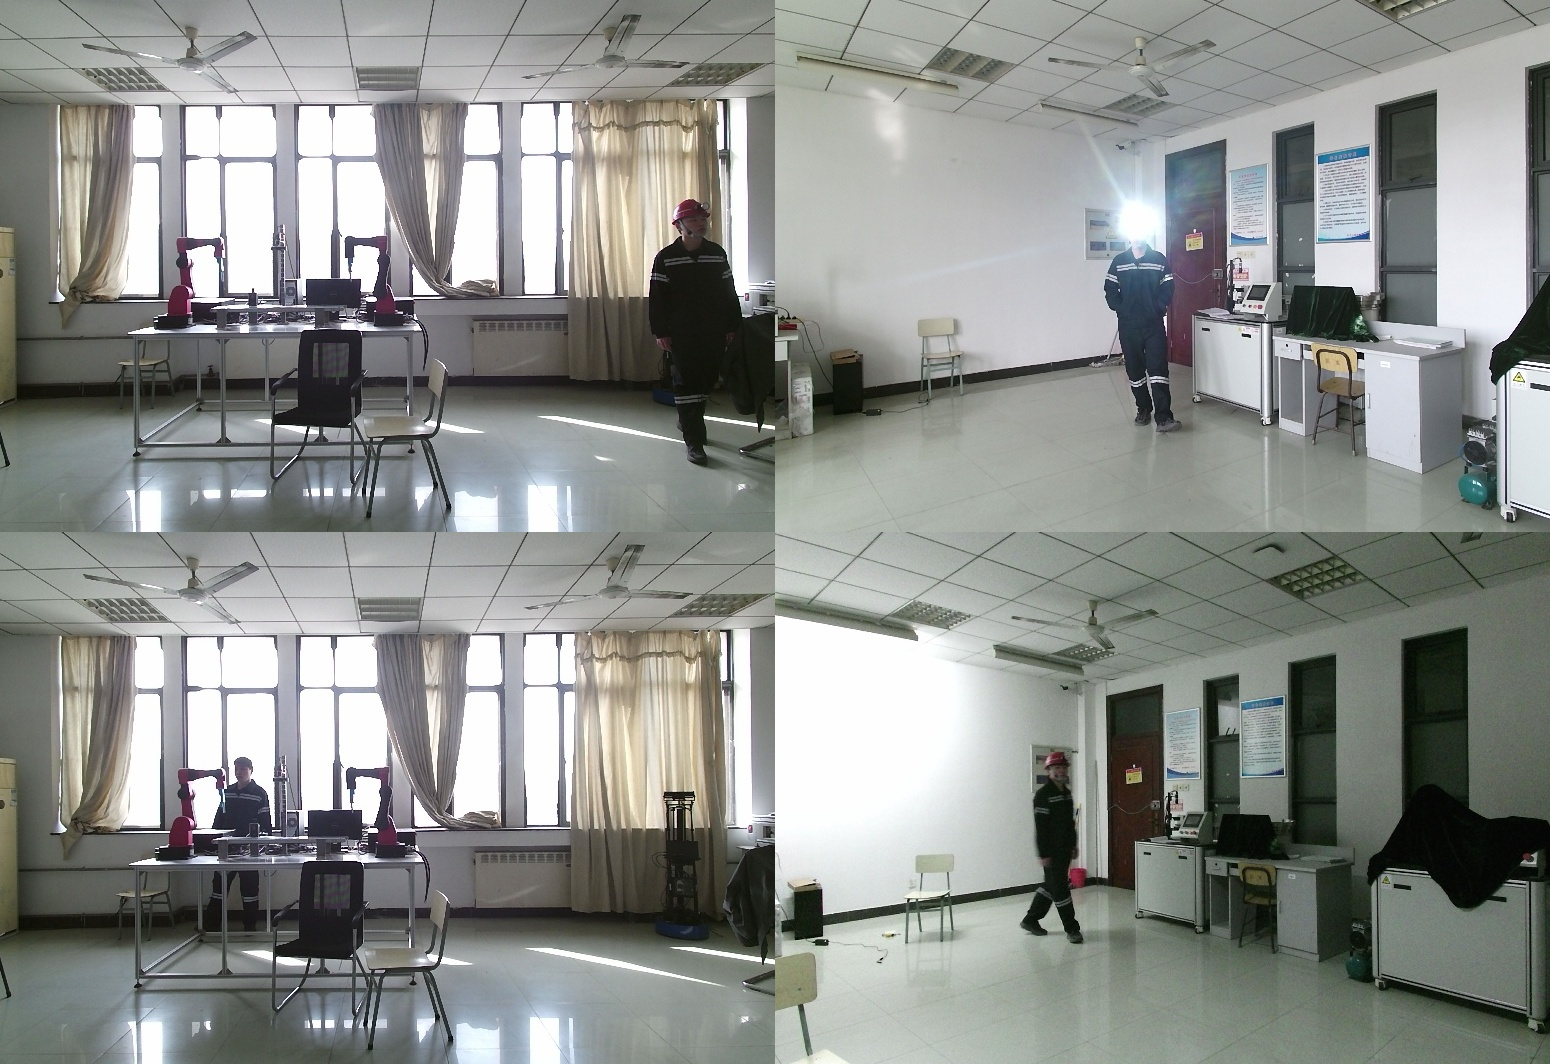person: (648, 198, 742, 463), (1107, 225, 1181, 436), (199, 758, 272, 946), (1018, 752, 1082, 954)
